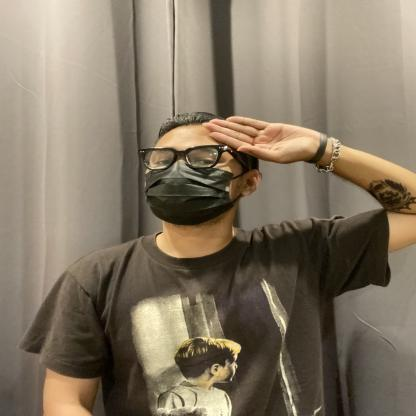Sick: (34, 84, 331, 249)
